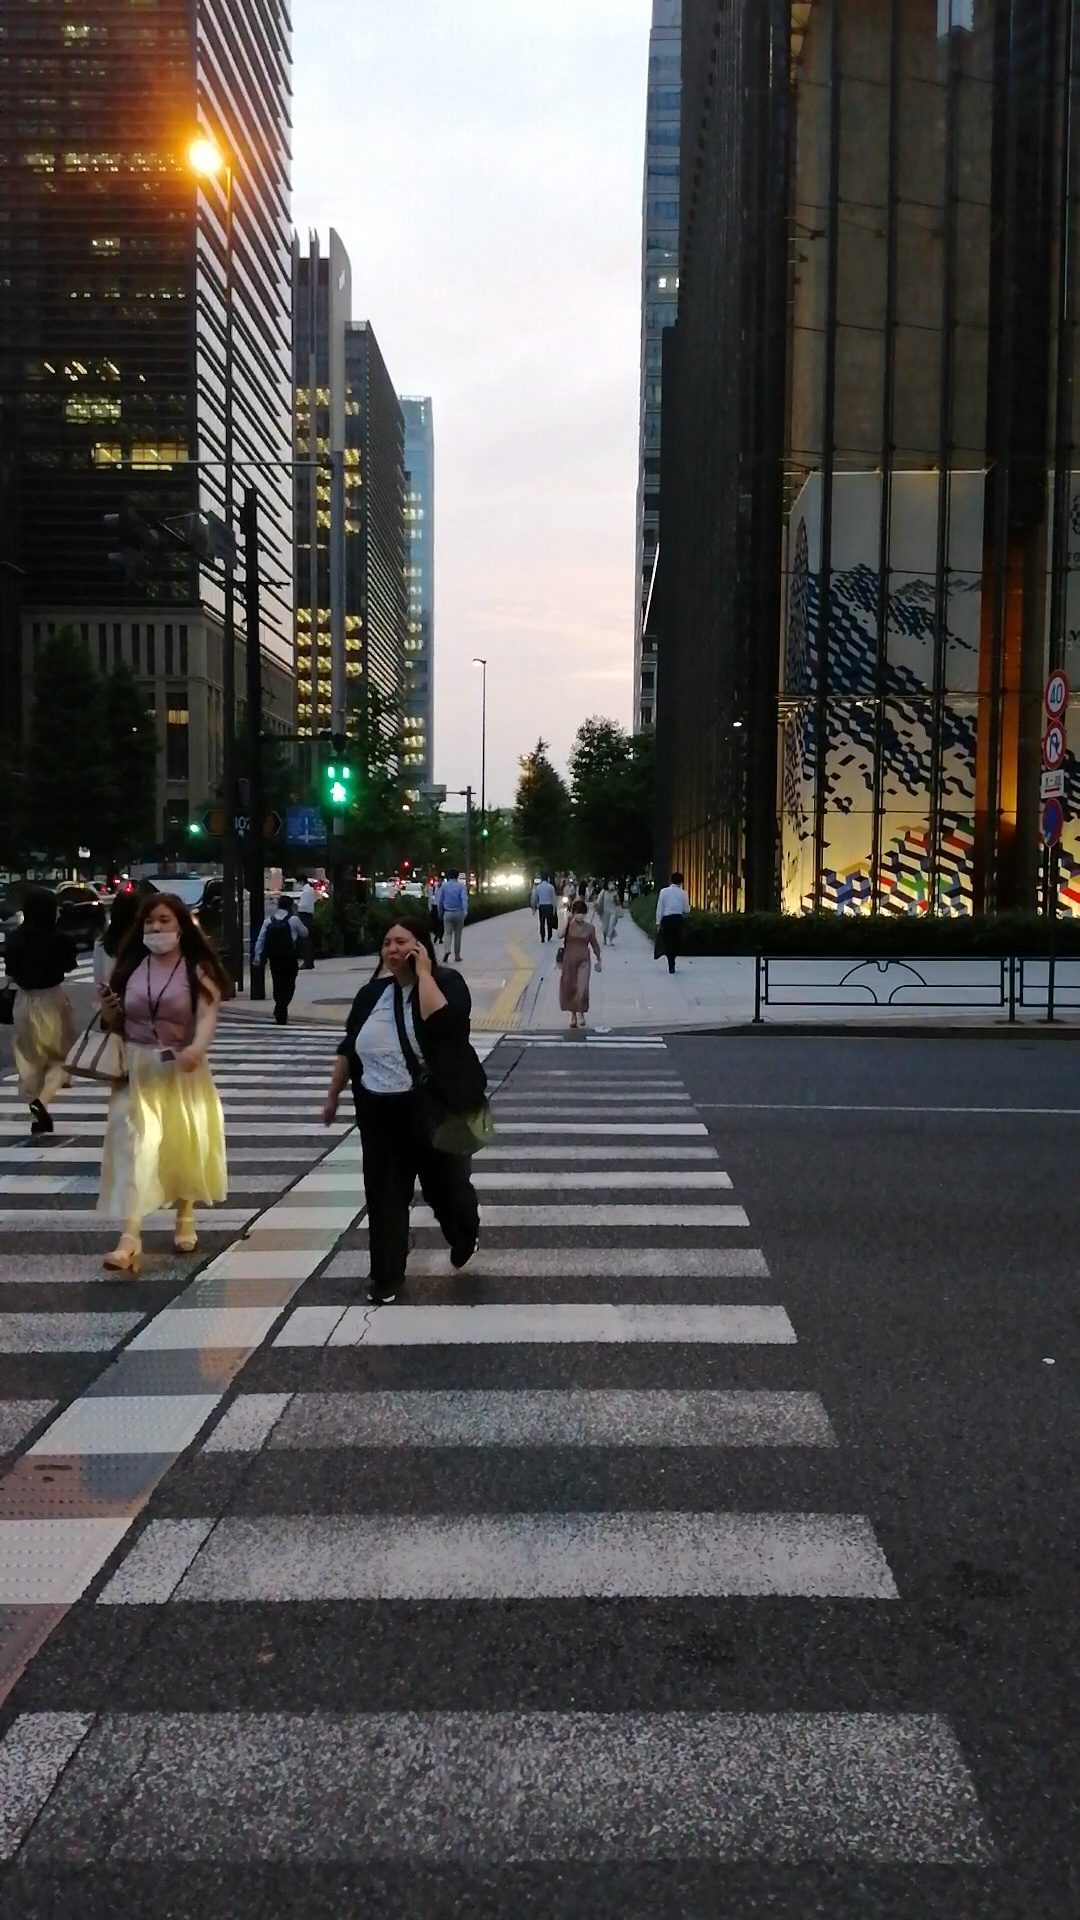green: (320, 757, 355, 812)
